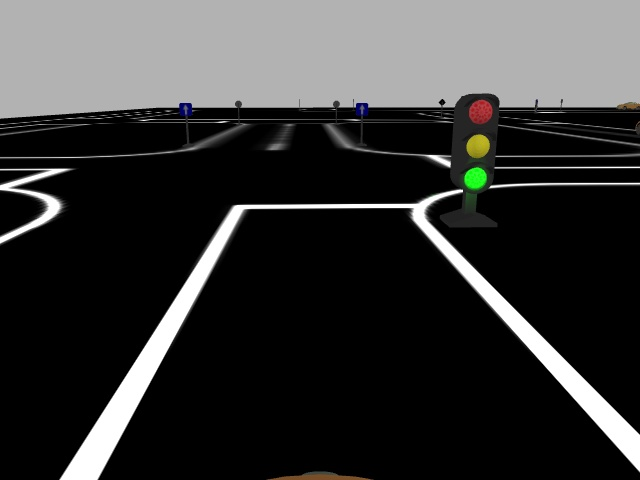green_light: (448, 91, 500, 195)
oneway: (177, 102, 193, 120), (354, 103, 369, 117)
